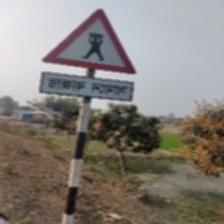Market-in-front: (39, 7, 138, 102)
